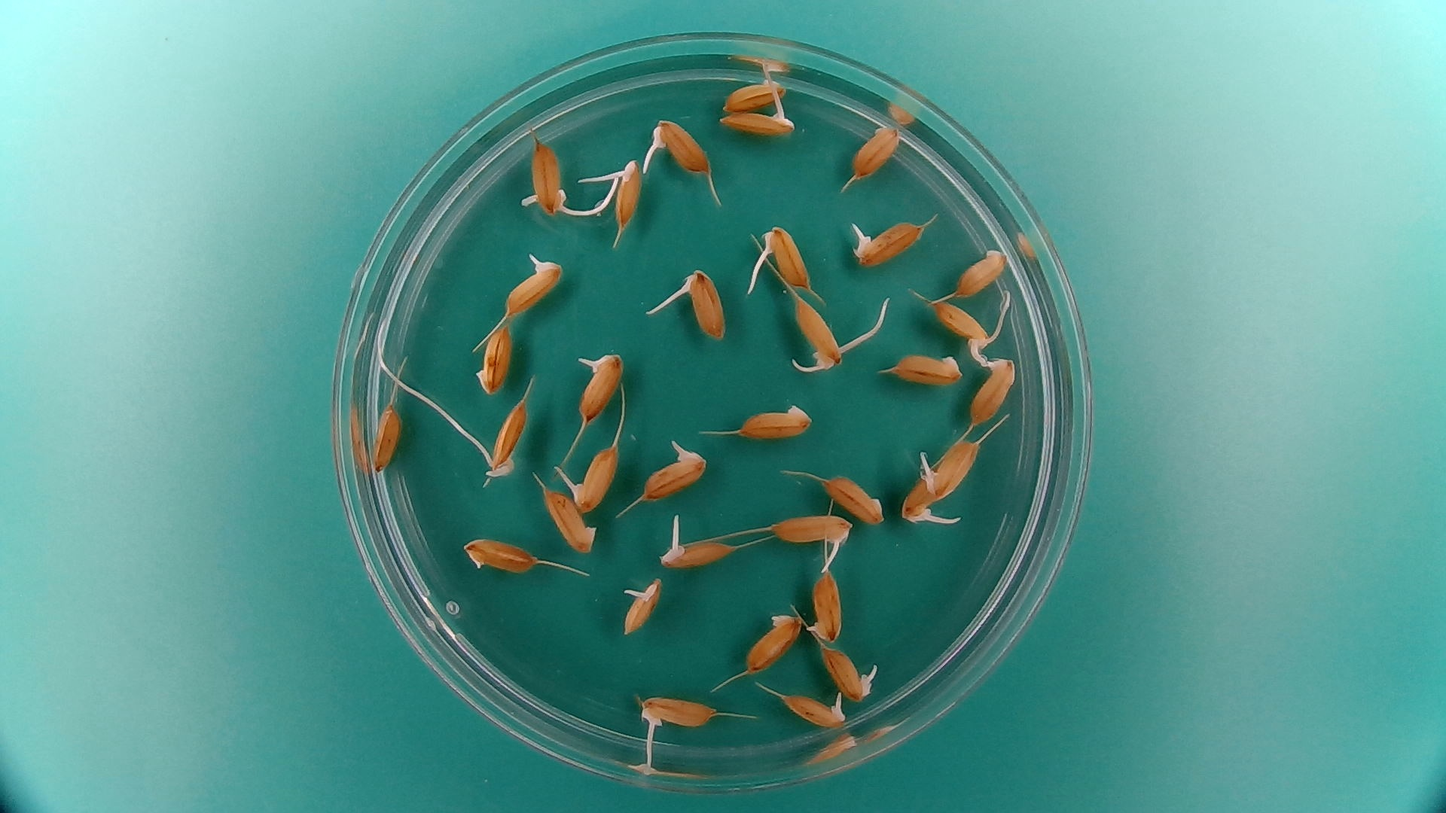no: (541, 483, 599, 555), (743, 607, 802, 675), (969, 351, 1017, 428), (819, 472, 886, 525), (734, 399, 815, 442), (471, 320, 514, 397), (950, 245, 1010, 299), (850, 120, 905, 178), (459, 534, 537, 574), (718, 72, 789, 113), (888, 350, 964, 387), (370, 402, 404, 471)
yes: (637, 437, 712, 502), (645, 115, 713, 178), (574, 348, 627, 424), (501, 254, 563, 318), (848, 217, 926, 267), (924, 435, 981, 500), (791, 294, 840, 368), (929, 298, 1000, 349), (525, 139, 572, 215), (767, 221, 815, 291), (486, 397, 529, 475), (682, 270, 726, 343), (571, 446, 621, 510), (821, 643, 877, 699), (808, 566, 845, 644), (898, 470, 947, 528), (718, 102, 796, 137), (620, 574, 664, 635), (780, 690, 848, 729), (640, 697, 716, 730), (657, 537, 732, 570), (768, 516, 850, 546), (614, 157, 645, 227)
